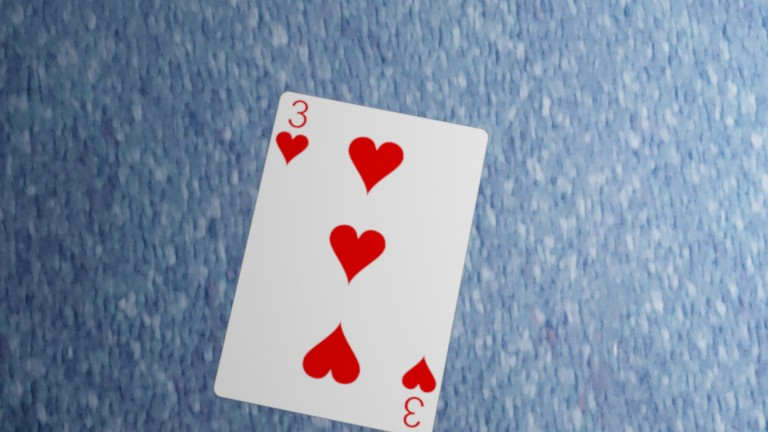3_of_hearts: (389, 352, 444, 432), (267, 96, 321, 171)
